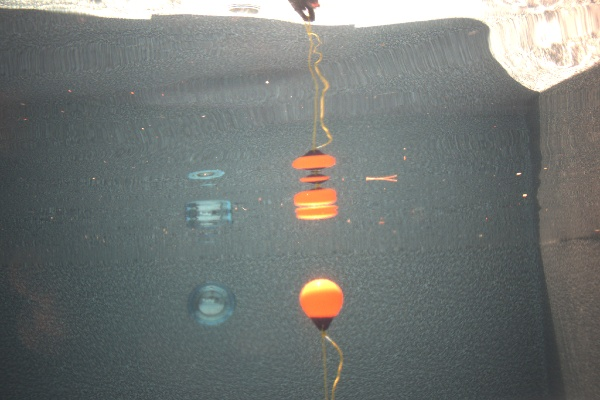buoy: (300, 278, 344, 332)
